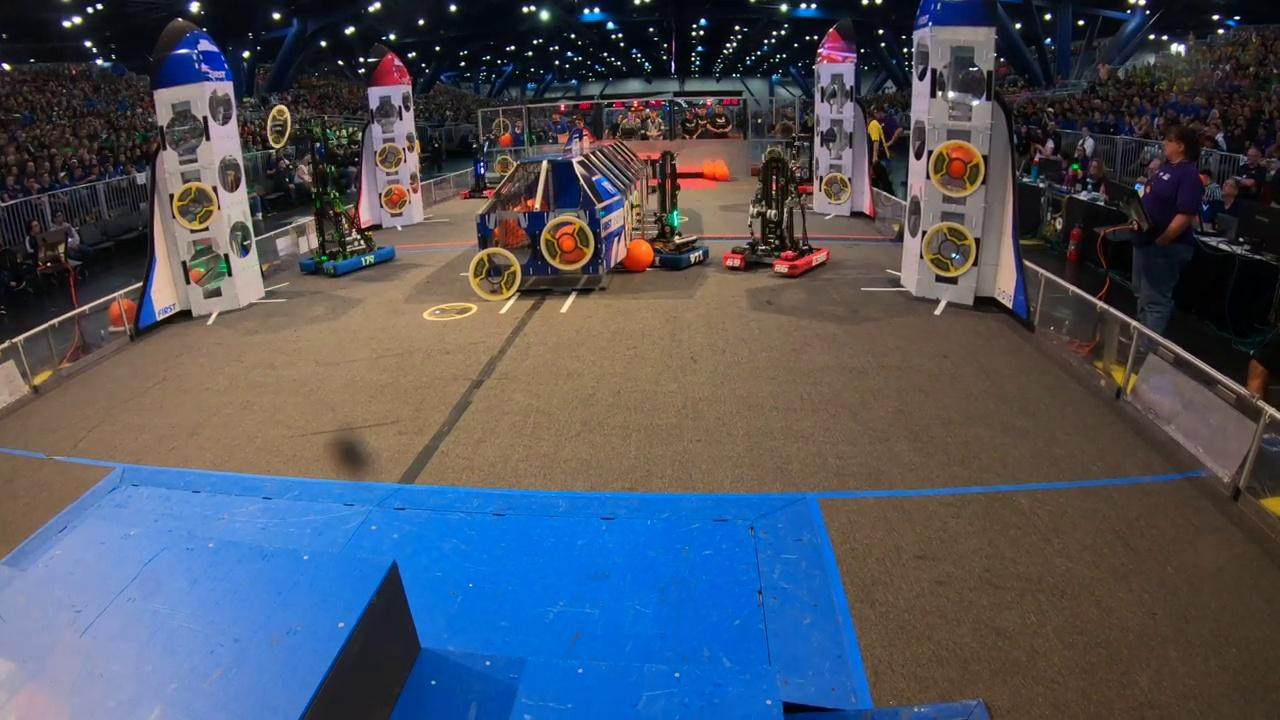robot: (716, 146, 834, 281), (621, 148, 711, 272), (297, 177, 400, 280)
